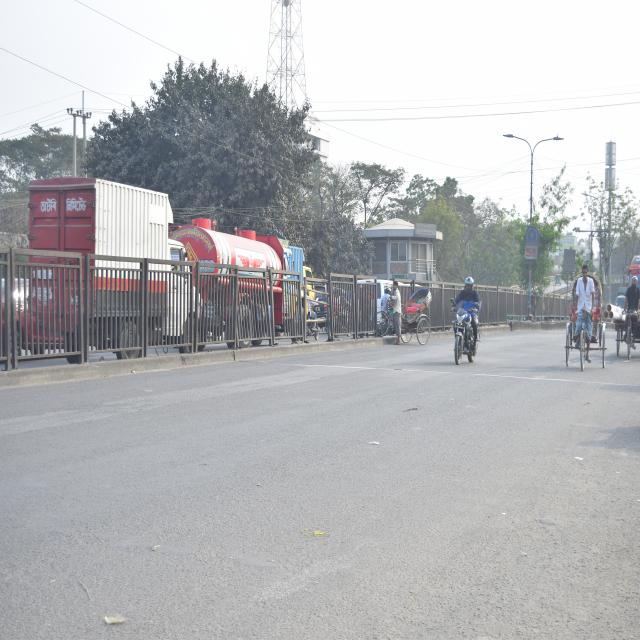motorbike: (441, 290, 482, 375)
